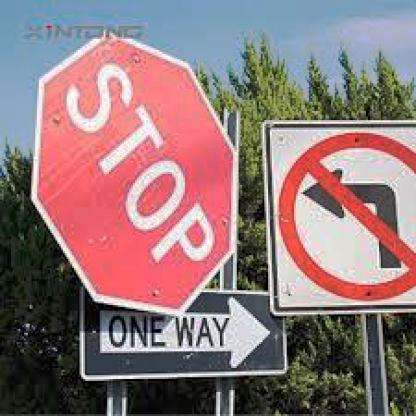No left turn: (271, 126, 416, 304)
